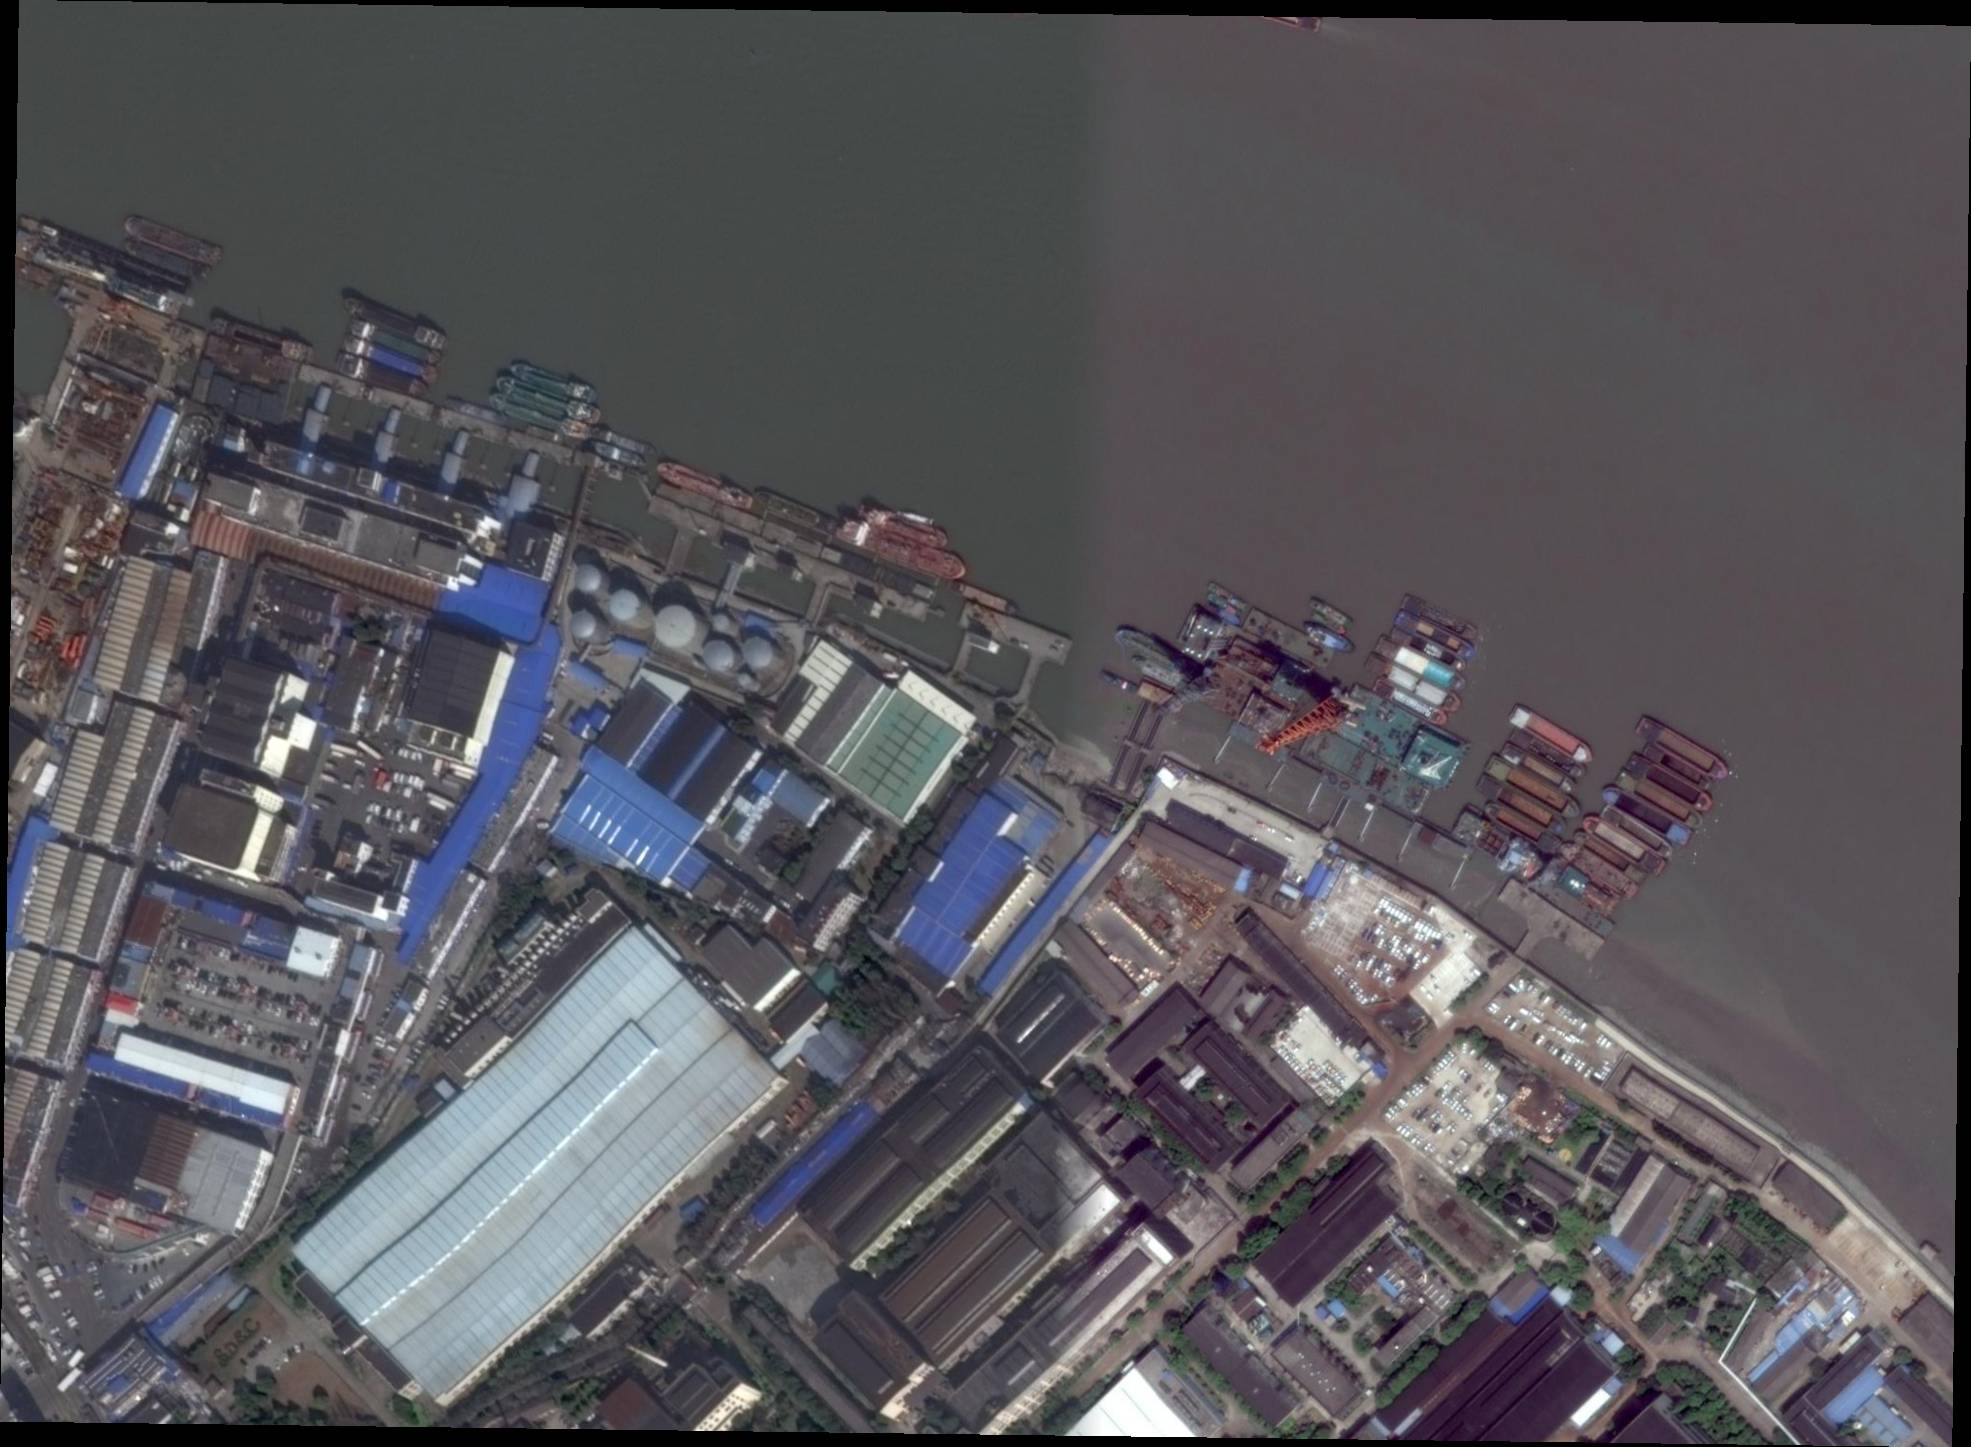ship: (15, 229, 187, 320), (17, 211, 190, 294), (836, 514, 972, 584), (1451, 805, 1552, 890), (1483, 751, 1584, 824), (1634, 711, 1732, 785), (1363, 650, 1466, 717), (341, 291, 450, 353), (1601, 782, 1696, 850), (1475, 772, 1572, 840), (1579, 811, 1671, 880), (122, 213, 228, 271), (1507, 701, 1598, 768), (1374, 632, 1469, 694), (494, 375, 604, 428), (1614, 768, 1706, 832), (1113, 621, 1204, 685), (1532, 873, 1618, 941), (1625, 753, 1717, 815), (653, 457, 754, 514), (1556, 837, 1640, 904), (487, 390, 594, 442), (211, 315, 318, 367), (341, 333, 442, 385), (347, 315, 445, 369), (334, 350, 433, 402), (1543, 854, 1622, 918), (1572, 828, 1653, 887), (1481, 798, 1562, 858), (857, 499, 952, 549), (508, 358, 601, 407), (1394, 609, 1478, 662), (1509, 728, 1588, 785), (1371, 675, 1451, 731), (753, 486, 840, 537), (1500, 740, 1579, 795), (1400, 592, 1481, 645), (1601, 803, 1677, 860), (1640, 740, 1719, 795), (122, 239, 213, 285), (1389, 624, 1471, 675), (947, 580, 1021, 616), (1299, 616, 1357, 659), (588, 437, 649, 471), (592, 427, 656, 457), (1308, 597, 1354, 630), (1207, 580, 1250, 612), (1204, 601, 1243, 629), (1310, 609, 1348, 635), (1207, 592, 1243, 618)
storage tank: (653, 603, 698, 649), (741, 636, 773, 668), (702, 641, 736, 671), (611, 590, 640, 621), (575, 564, 603, 593), (569, 610, 597, 638), (712, 613, 730, 632), (738, 671, 751, 685)
